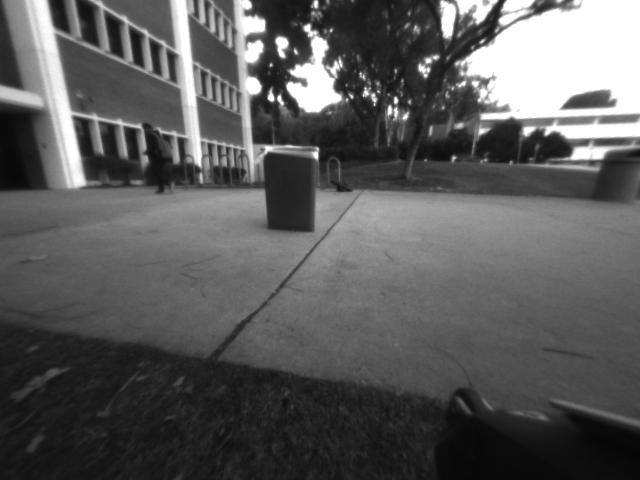trashcan: (253, 139, 330, 238)
